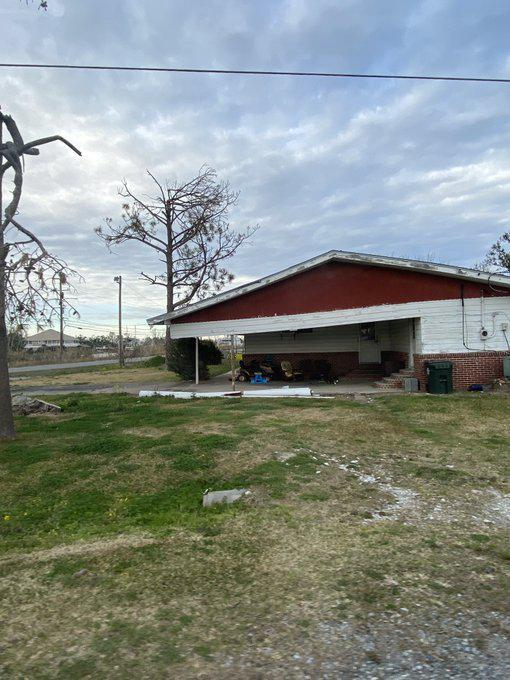major: (152, 222, 510, 403)
